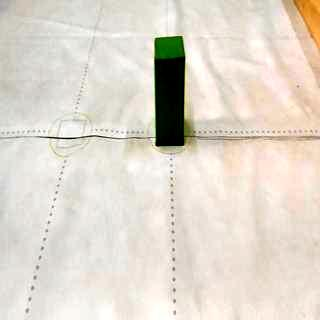greenbox: (155, 36, 185, 145)
